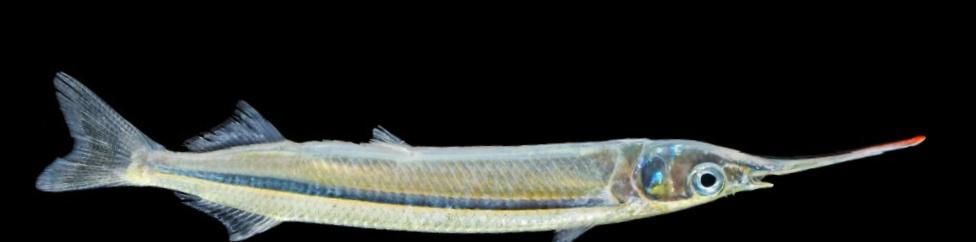fish: (34, 69, 927, 238)
